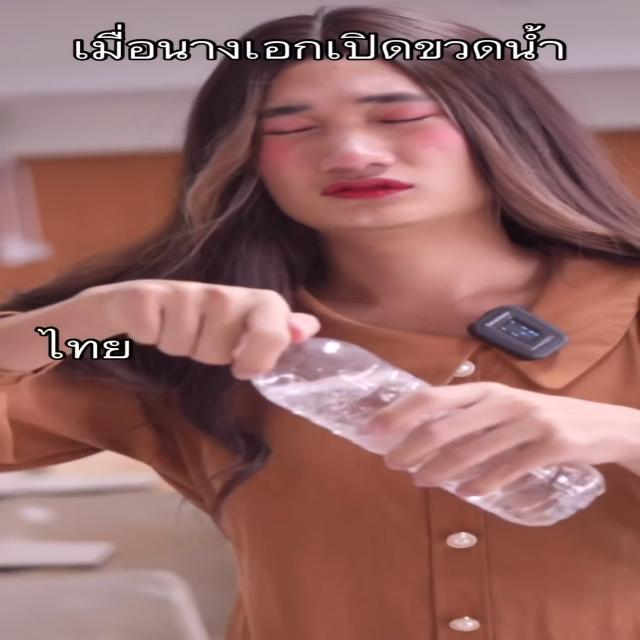bottle: (231, 330, 612, 529)
